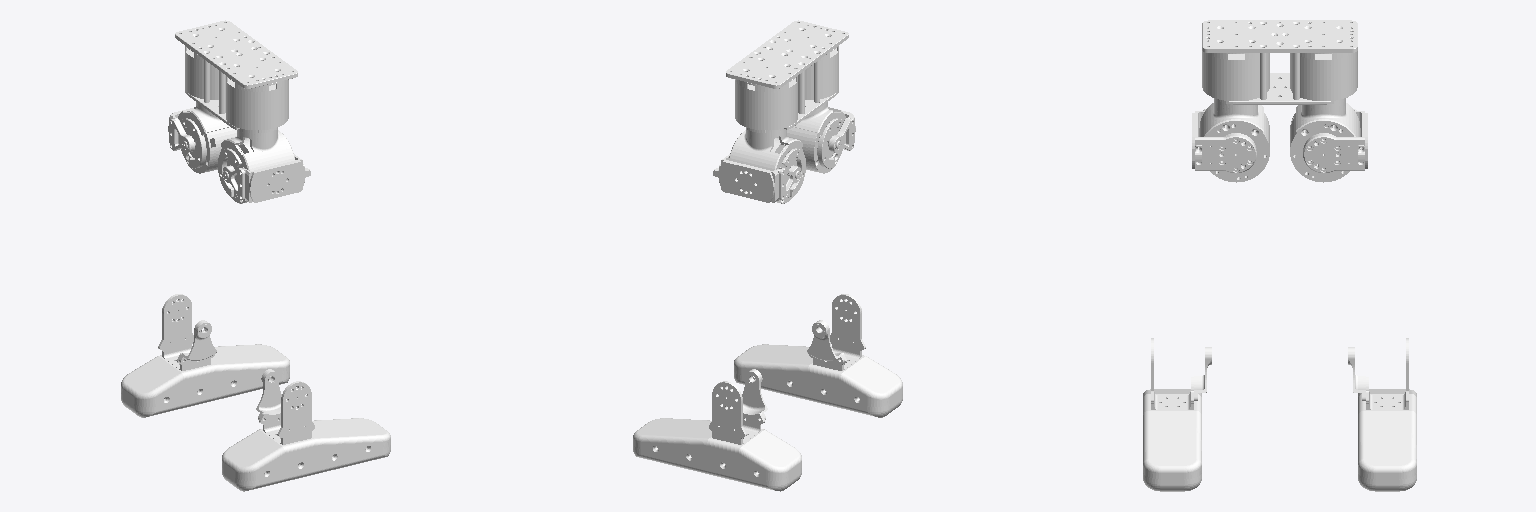
The robot description file, URDF, robot "navibot":
<?xml version="1.0" ?>
<robot name="navibot">
   <link name="base">
      <inertial>
         <origin xyz="0.0 0.0 0.0" rpy="0.0 0.0 0.0"/>
         <mass value="0.71452"/>
         <inertia ixx="0.000001" iyy="0.0000001" izz="0.000001" ixy="0" ixz="0" iyz="0"/>
      </inertial>
      <visual name="base">
         <origin xyz="0.0 0.0 0.0" rpy="0.0 0.0 0.0"/>
         <geometry>
            <mesh filename="meshes/navibot_base.stl"/>
         </geometry>
         <material name="white"/>
      </visual>
      <collision>
         <geometry>
            <cylinder length="0.05" radius="0.03"/>
         </geometry>
         <origin xyz="0.0 0.037 0.0225" rpy="0 0 0"/>
         <contact_coefficients mu="1" kp="1000.0" kd="1.0"/>
      </collision>
      <collision>
         <geometry>
            <cylinder length="0.05" radius="0.03"/>
         </geometry>
         <origin xyz="0.0 -0.037 0.0225" rpy="0 0 0"/>
         <contact_coefficients mu="1" kp="1000.0" kd="1.0"/>
      </collision>
   </link>
   <link name="hip_left">
      <inertial>
         <origin xyz="0.0 -0.037 0.0" rpy="0.0 0.0  0.0"/>
         <mass value="0.34969"/>
         <inertia ixx="0.1" iyy="0.1" izz="0.1" ixy="0" ixz="0" iyz="0"/>
      </inertial>
      <visual name="hip_left">
         <origin xyz="0.0 -0.037 0.0" rpy="0.0 0.0 0.0"/>
         <geometry>
            <mesh filename="meshes/navibot_hip_left.stl"/>
         </geometry>
         <material name="white"/>
      </visual>
      <collision>
         <geometry>
            <cylinder length="0.05" radius="0.03"/>
         </geometry>
         <origin xyz="0.0 0.0 -0.05" rpy="0 1.5707963267948966 0"/>
         <contact_coefficients mu="1" kp="1000.0" kd="1.0"/>
      </collision>
   </link>
   <joint type="revolute" name="joint_hip_left">
      <parent link="base"/>
      <child link="hip_left"/>
      <origin xyz="0.0 0.037 0.0" rpy="0.0 0.0 0.0"/>
      <axis xyz="0.0 0.0 1.0"/>
      <limit lower="-0.785398" upper="0.785398" effort="100" velocity="100"/>
   </joint>
   <link name="thigh_left">
      <inertial>
         <origin xyz="0.0 -0.037 0.05" rpy="0.0 0.0  0.0"/>
         <mass value="0.04701"/>
         <inertia ixx="0.1" iyy="0.1" izz="0.1" ixy="0" ixz="0" iyz="0"/>
      </inertial>
      <visual name="thigh_left">
         <origin xyz="0.0 -0.037 0.05" rpy="0.0 0.0 0.0"/>
         <geometry>
            <mesh filename="meshes/navibot_thigh_left.stl"/>
         </geometry>
         <material name="white"/>
      </visual>
   </link>
   <joint type="revolute" name="joint_thigh_left">
      <parent link="hip_left"/>
      <child link="thigh_left"/>
      <origin xyz="0.0 0.0 -0.05" rpy="0.0 0.0 0.0"/>
      <axis xyz="1.0 0.0 0.0"/>
      <limit lower="-0.872665" upper="0.174533" effort="100" velocity="100"/>
   </joint>
   <link name="knee_left">
      <inertial>
         <origin xyz="0.0 0.0 0.0" rpy="0.0 0.0  0.0"/>
         <mass value="0.83451"/>
         <inertia ixx="0.1" iyy="0.1" izz="0.1" ixy="0" ixz="0" iyz="0"/>
      </inertial>
      <visual name="knee_left">
         <origin xyz="0.0 -0.087 0.05" rpy="0.0 0.0 0.0"/>
         <geometry>
            <mesh filename="meshes/navibot_knee_left.stl"/>
         </geometry>
         <material name="white"/>
      </visual>
      <collision>
         <geometry>
            <cylinder length="0.04" radius="0.04"/>
         </geometry>
         <origin xyz="0.0 0.005 0.0" rpy="1.5707963267948966 0 0"/>
         <contact_coefficients mu="1" kp="1000.0" kd="1.0"/>
      </collision>
      <collision>
         <geometry>
            <cylinder length="0.04" radius="0.04"/>
         </geometry>
         <origin xyz="0.0 0.005 -0.1" rpy="1.5707963267948966 0 0"/>
         <contact_coefficients mu="1" kp="1000.0" kd="1.0"/>
      </collision>
   </link>
   <joint type="revolute" name="joint_knee_left">
      <parent link="thigh_left"/>
      <child link="knee_left"/>
      <origin xyz="0.0 0.05 0.0" rpy="0.0 0.0 0.0"/>
      <axis xyz="0.0 1.0 0.0"/>
      <limit lower="-1.5707963267948966" upper="1.5707963267948966" effort="100" velocity="100"/>
   </joint>
   <link name="shin_left">
      <inertial>
         <origin xyz="0.0 0.0 0.0" rpy="0.0 0.0  0.0"/>
         <mass value="0.46550"/>
         <inertia ixx="0.1" iyy="0.1" izz="0.1" ixy="0" ixz="0" iyz="0"/>
      </inertial>
      <visual name="shin_left">
         <origin xyz="0.0 -0.087 0.15" rpy="0.0 0.0 0.0"/>
         <geometry>
            <mesh filename="meshes/navibot_shin_left.stl"/>
         </geometry>
         <material name="white"/>
      </visual>
      <collision>
         <geometry>
            <cylinder length="0.04" radius="0.04"/>
         </geometry>
         <origin xyz="0.0 0.005 -0.1" rpy="1.5707963267948966 0 0"/>
         <contact_coefficients mu="1" kp="1000.0" kd="1.0"/>
      </collision>
   </link>
   <joint type="revolute" name="joint_shin_left">
      <parent link="knee_left"/>
      <child link="shin_left"/>
      <origin xyz="0.0 0.0 -0.1" rpy="0.0 0.0 0.0"/>
      <axis xyz="0.0 1.0 0.0"/>
      <limit lower="-1.5707963267948966" upper="0" effort="100" velocity="100"/>
   </joint>
   <link name="toe_left">
      <inertial>
         <origin xyz="0.0 0.0 0.0" rpy="0.0 0.0  0.0"/>
         <mass value="0.22506"/>
         <inertia ixx="0.1" iyy="0.1" izz="0.1" ixy="0" ixz="0" iyz="0"/>
      </inertial>
      <visual name="toe_left">
         <origin xyz="0.0 -0.087 0.25" rpy="0.0 0.0 0.0"/>
         <geometry>
            <mesh filename="meshes/navibot_toe_left.stl"/>
         </geometry>
         <material name="white"/>
      </visual>
      <collision>
         <geometry>
            <cylinder length="0.16" radius="0.005"/>
         </geometry>
         <origin xyz="0.02 0.023 -0.08" rpy="0 1.5707963267948966 0"/>
         <contact_coefficients mu="1" kp="1000.0" kd="1.0"/>
      </collision>
      <collision>
         <geometry>
            <cylinder length="0.16" radius="0.005"/>
         </geometry>
         <origin xyz="0.02 -0.017 -0.08" rpy="0 1.5707963267948966 0"/>
         <contact_coefficients mu="1" kp="1000.0" kd="1.0"/>
      </collision>
   </link>
   <joint type="revolute" name="joint_toe_left">
      <parent link="shin_left"/>
      <child link="toe_left"/>
      <origin xyz="0.0 0.0 -0.1" rpy="0.0 0.0 0.0"/>
      <axis xyz="0.0 1.0 0.0"/>
      <limit lower="-1.39626" upper="1.13446" effort="100" velocity="100"/>
   </joint>
   <link name="hip_right">
      <inertial>
         <origin xyz="0.0 0.037 0.0" rpy="0.0 0.0  0.0"/>
         <mass value="0.34969"/>
         <inertia ixx="0.1" iyy="0.1" izz="0.1" ixy="0" ixz="0" iyz="0"/>
      </inertial>
      <visual name="hip_right">
         <origin xyz="0.0 0.037 0.0" rpy="0.0 0.0 0.0"/>
         <geometry>
            <mesh filename="meshes/navibot_hip_right.stl"/>
         </geometry>
         <material name="white"/>
      </visual>
      <collision>
         <geometry>
            <cylinder length="0.05" radius="0.03"/>
         </geometry>
         <origin xyz="0.0 0.0 -0.05" rpy="0 1.5707963267948966 0"/>
         <contact_coefficients mu="1" kp="1000.0" kd="1.0"/>
      </collision>
   </link>
   <joint type="revolute" name="joint_hip_right">
      <parent link="base"/>
      <child link="hip_right"/>
      <origin xyz="0.0 -0.037 0.0" rpy="0.0 0.0 0.0"/>
      <axis xyz="0.0 0.0 1.0"/>
      <limit lower="-0.785398" upper="0.785398" effort="100" velocity="100"/>
   </joint>
   <link name="thigh_right">
      <inertial>
         <origin xyz="0.0 0.037 0.05" rpy="0.0 0.0  0.0"/>
         <mass value="0.04701"/>
         <inertia ixx="0.1" iyy="0.1" izz="0.1" ixy="0" ixz="0" iyz="0"/>
      </inertial>
      <visual name="thigh_right">
         <origin xyz="0.0 0.037 0.05" rpy="0.0 0.0 0.0"/>
         <geometry>
            <mesh filename="meshes/navibot_thigh_right.stl"/>
         </geometry>
         <material name="white"/>
      </visual>
   </link>
   <joint type="revolute" name="joint_thigh_right">
      <parent link="hip_right"/>
      <child link="thigh_right"/>
      <origin xyz="0.0 0.0 -0.05" rpy="0.0 0.0 0.0"/>
      <axis xyz="-1.0 0.0 0.0"/>
      <limit lower="-0.872665" upper="0.174533" effort="100" velocity="100"/>
   </joint>
   <link name="knee_right">
      <inertial>
         <origin xyz="0.0 0.087 0.05" rpy="0.0 0.0  0.0"/>
         <mass value="0.83451"/>
         <inertia ixx="0.1" iyy="0.1" izz="0.1" ixy="0" ixz="0" iyz="0"/>
      </inertial>
      <visual name="knee_right">
         <origin xyz="0.0 0.087 0.05" rpy="0.0 0.0 0.0"/>
         <geometry>
            <mesh filename="meshes/navibot_knee_right.stl"/>
         </geometry>
         <material name="white"/>
      </visual>
      <collision>
         <geometry>
            <cylinder length="0.04" radius="0.04"/>
         </geometry>
         <origin xyz="0.0 -0.005 0.0" rpy="1.5707963267948966 0 0"/>
         <contact_coefficients mu="1" kp="1000.0" kd="1.0"/>
      </collision>
      <collision>
         <geometry>
            <cylinder length="0.04" radius="0.04"/>
         </geometry>
         <origin xyz="0.0 -0.005 -0.1" rpy="1.5707963267948966 0 0"/>
         <contact_coefficients mu="1" kp="1000.0" kd="1.0"/>
      </collision>
   </link>
   <joint type="revolute" name="joint_knee_right">
      <parent link="thigh_right"/>
      <child link="knee_right"/>
      <origin xyz="0.0 -0.05 0.0" rpy="0.0 0.0 0.0"/>
      <axis xyz="0.0 -1.0 0.0"/>
      <limit lower="-1.5707963267948966" upper="1.5707963267948966" effort="100" velocity="100"/>
   </joint>
   <link name="shin_right">
      <inertial>
         <origin xyz="0.0 0.087 0.15" rpy="0.0 0.0  0.0"/>
         <mass value="0.46550"/>
         <inertia ixx="0.1" iyy="0.1" izz="0.1" ixy="0" ixz="0" iyz="0"/>
      </inertial>
      <visual name="shin_right">
         <origin xyz="0.0 0.087 0.15" rpy="0.0 0.0 0.0"/>
         <geometry>
            <mesh filename="meshes/navibot_shin_right.stl"/>
         </geometry>
         <material name="white"/>
      </visual>
      <collision>
         <geometry>
            <cylinder length="0.04" radius="0.04"/>
         </geometry>
         <origin xyz="0.0 -0.005 -0.1" rpy="1.5707963267948966 0 0"/>
         <contact_coefficients mu="1" kp="1000.0" kd="1.0"/>
      </collision>
   </link>
   <joint type="revolute" name="joint_shin_right">
      <parent link="knee_right"/>
      <child link="shin_right"/>
      <origin xyz="0.0 0.0 -0.1" rpy="0.0 0.0 0.0"/>
      <axis xyz="0.0 -1.0 0.0"/>
      <limit lower="0" upper="1.5707963267948966" effort="100" velocity="100"/>
   </joint>
   <link name="toe_right">
      <inertial>
         <origin xyz="0.0 0.087 0.25" rpy="0.0 0.0  0.0"/>
         <mass value="0.22506"/>
         <inertia ixx="0.1" iyy="0.1" izz="0.1" ixy="0" ixz="0" iyz="0"/>
      </inertial>
      <visual name="toe_right">
         <origin xyz="0.0 0.087 0.25" rpy="0.0 0.0 0.0"/>
         <geometry>
            <mesh filename="meshes/navibot_toe_right.stl"/>
         </geometry>
         <material name="white"/>
      </visual>
      <collision>
         <geometry>
            <cylinder length="0.16" radius="0.005"/>
         </geometry>
         <origin xyz="0.02 -0.023 -0.08" rpy="0 1.5707963267948966 0"/>
         <contact_coefficients mu="1" kp="1000.0" kd="1.0"/>
      </collision>
      <collision>
         <geometry>
            <cylinder length="0.16" radius="0.005"/>
         </geometry>
         <origin xyz="0.02 0.017 -0.08" rpy="0 1.5707963267948966 0"/>
         <contact_coefficients mu="1" kp="1000.0" kd="1.0"/>
      </collision>
   </link>
   <joint type="revolute" name="joint_toe_right">
      <parent link="shin_right"/>
      <child link="toe_right"/>
      <origin xyz="0.0 0.0 -0.1" rpy="0.0 0.0 0.0"/>
      <axis xyz="0.0 -1.0 0.0"/>
      <limit lower="-1.13446" upper="1.39626" effort="100" velocity="100"/>
   </joint>
   <link name="head">
      <visual name="head">
         <origin xyz="0.0 0.0 0.0" rpy="0.0 0.0 0.0"/>
         <geometry>
            <mesh filename="meshes/navibot_head.stl"/>
         </geometry>
         <material name="transparent"/>
      </visual>
   </link>
   <joint type="fixed" name="fixed_base_to_head">
      <parent link="base"/>
      <child link="head"/>
      <origin xyz="0.0 0.0 0.0" rpy="0.0 0.0 0.0"/>
   </joint>
  <link name="vector_nav">
    <inertial>
      <origin rpy="0 0 0" xyz="0 0 0"/>
      <mass value="0"/>
      <inertia ixx="0" ixy="0" ixz="0" iyy="0" iyz="0" izz="0"/>
    </inertial>
  </link>
  <joint name="fixed_base_to_vector_nav" type="fixed">
    <origin rpy="0 0 0" xyz="0 0 0.2"/>
    <parent link="base"/>
    <child link="vector_nav"/>
  </joint>
   <material name="transparent">
      <color rgba="1 1 1 0.2"/>
   </material>
   <material name="white">
      <color rgba="1 1 1 1"/>
   </material>
</robot>

--- Render facts (derived) ---
Views: 3 orthographic renders of the robot side by side, from view 1: azimuth 30°, elevation 25°; view 2: azimuth 150°, elevation 25°; view 3: azimuth 270°, elevation 25°.
Robot: navibot — 13 links, 12 joints (10 revolute, 2 fixed); root link base; default pose: every joint at zero.
Links seen in each view (by area): view 1: toe_right, toe_left, base, hip_right, thigh_right, hip_left, thigh_left; view 2: toe_left, toe_right, base, hip_left, thigh_left, hip_right, thigh_right; view 3: base, toe_left, toe_right, hip_left, hip_right, thigh_left, thigh_right.
Link boxes in pixels (x1=…): toe_right: x1=222, y1=369, x2=390, y2=491; toe_left: x1=121, y1=294, x2=289, y2=417; base: x1=175, y1=20, x2=297, y2=129; hip_right: x1=218, y1=127, x2=294, y2=203; thigh_right: x1=223, y1=154, x2=310, y2=202; hip_left: x1=178, y1=102, x2=236, y2=173; thigh_left: x1=168, y1=110, x2=194, y2=152; toe_left: x1=633, y1=369, x2=801, y2=491; toe_right: x1=734, y1=294, x2=902, y2=417; base: x1=726, y1=20, x2=848, y2=129; hip_left: x1=729, y1=127, x2=805, y2=203; thigh_left: x1=713, y1=154, x2=800, y2=202; hip_right: x1=787, y1=102, x2=845, y2=173; thigh_right: x1=829, y1=110, x2=855, y2=152; base: x1=1202, y1=20, x2=1357, y2=104; toe_left: x1=1348, y1=338, x2=1416, y2=491; toe_right: x1=1143, y1=338, x2=1211, y2=491; hip_left: x1=1290, y1=97, x2=1360, y2=182; hip_right: x1=1199, y1=97, x2=1269, y2=182; thigh_left: x1=1303, y1=109, x2=1367, y2=172; thigh_right: x1=1192, y1=109, x2=1256, y2=172.
Bounding box of the posed robot: 0.16 × 0.2315 × 0.3825 m (x, y, z).
7 mesh visuals loaded from 12 distinct referenced files (7 binary STL); not drawn: 5 (reference not matched to a file when rendering).